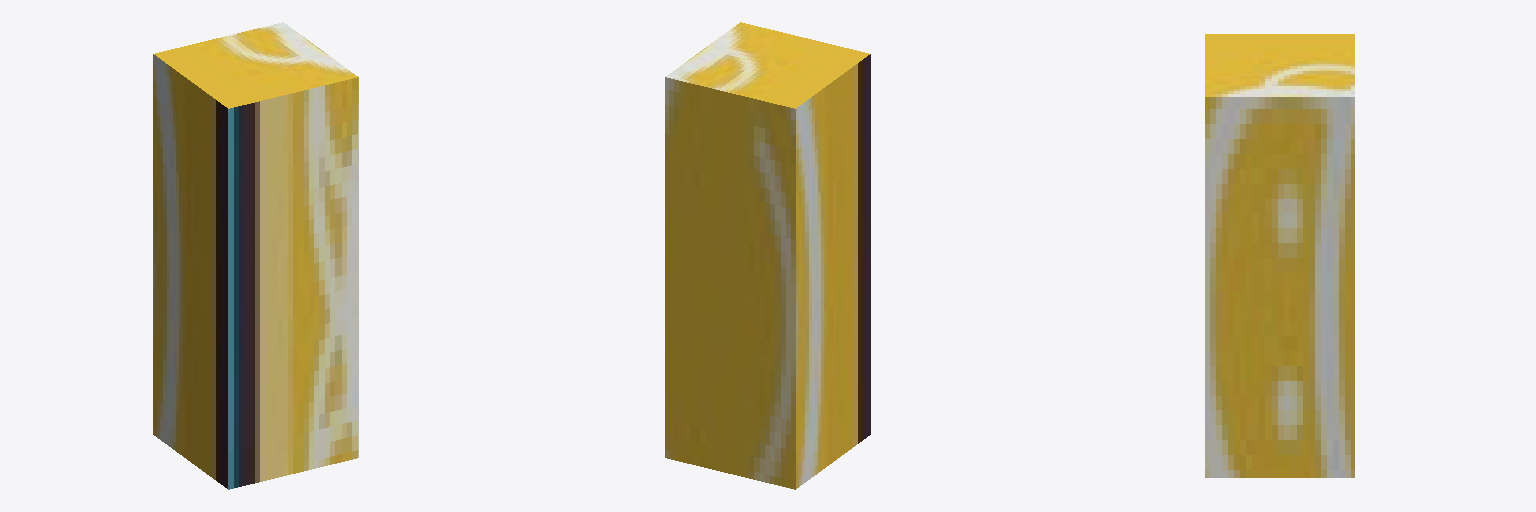
The picture shows the model from 3 angles: view 1: azimuth 30°, elevation 25°; view 2: azimuth 150°, elevation 25°; view 3: azimuth 270°, elevation 25°; orthographic projection.
Parts seen in each view (by area): view 1: Cube; view 2: Cube; view 3: Cube.
Part boxes in pixels (x1,y1,x2,y2): Cube: (153,22,358,489); Cube: (665,22,870,489); Cube: (1205,34,1354,477).
Size of the model in its own units: 2 by 5.59 by 2.
Materials: 1 (1 with a texture image).